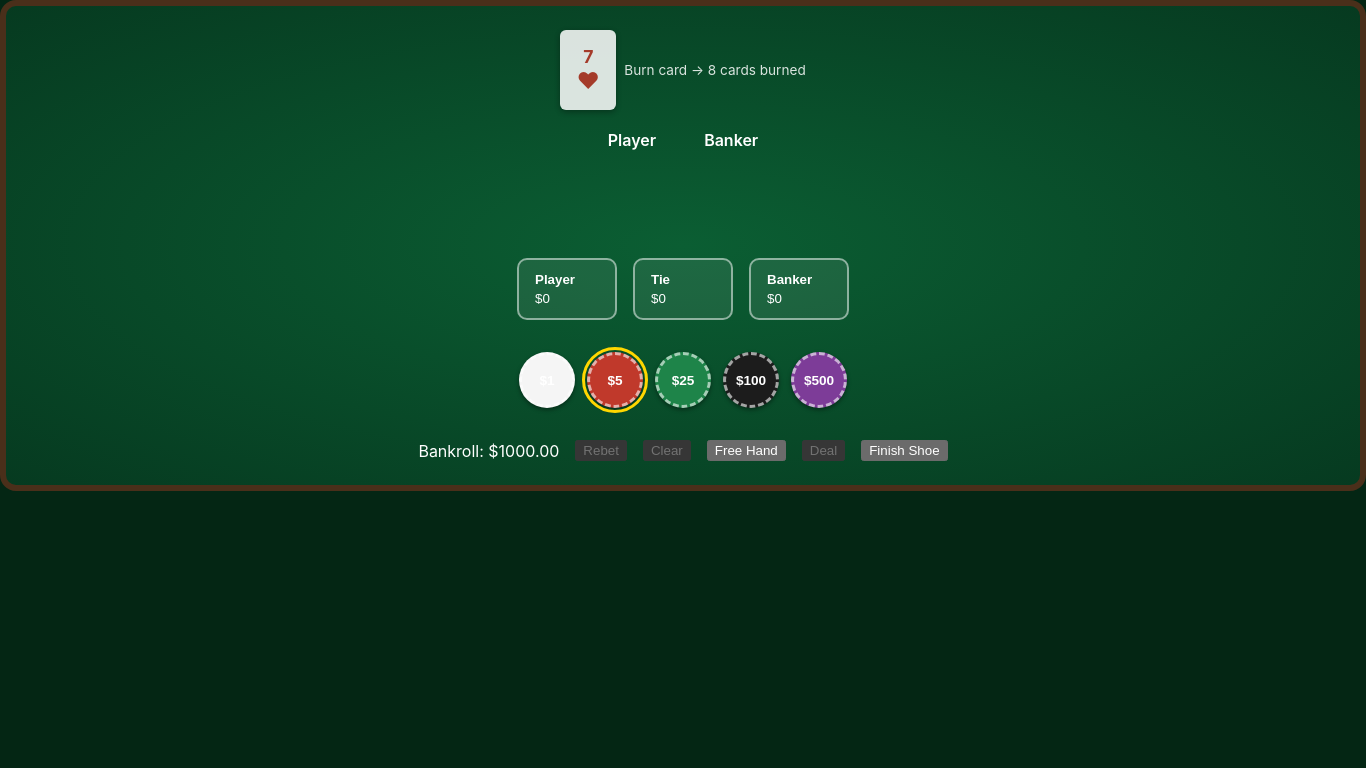
Test: Table › opens a confirmation dialog for Finish Shoe and does nothing until confirmed
The width and height of the screenshot is (1366, 768).
Check: the text "Bankroll: $1000.00" is shown, box [418,440,559,460]
What coordinates should you click on to do the following:
click the button with test id "chip-25"
I would click on:
 (683, 380)
Its box is [655,352,711,408].
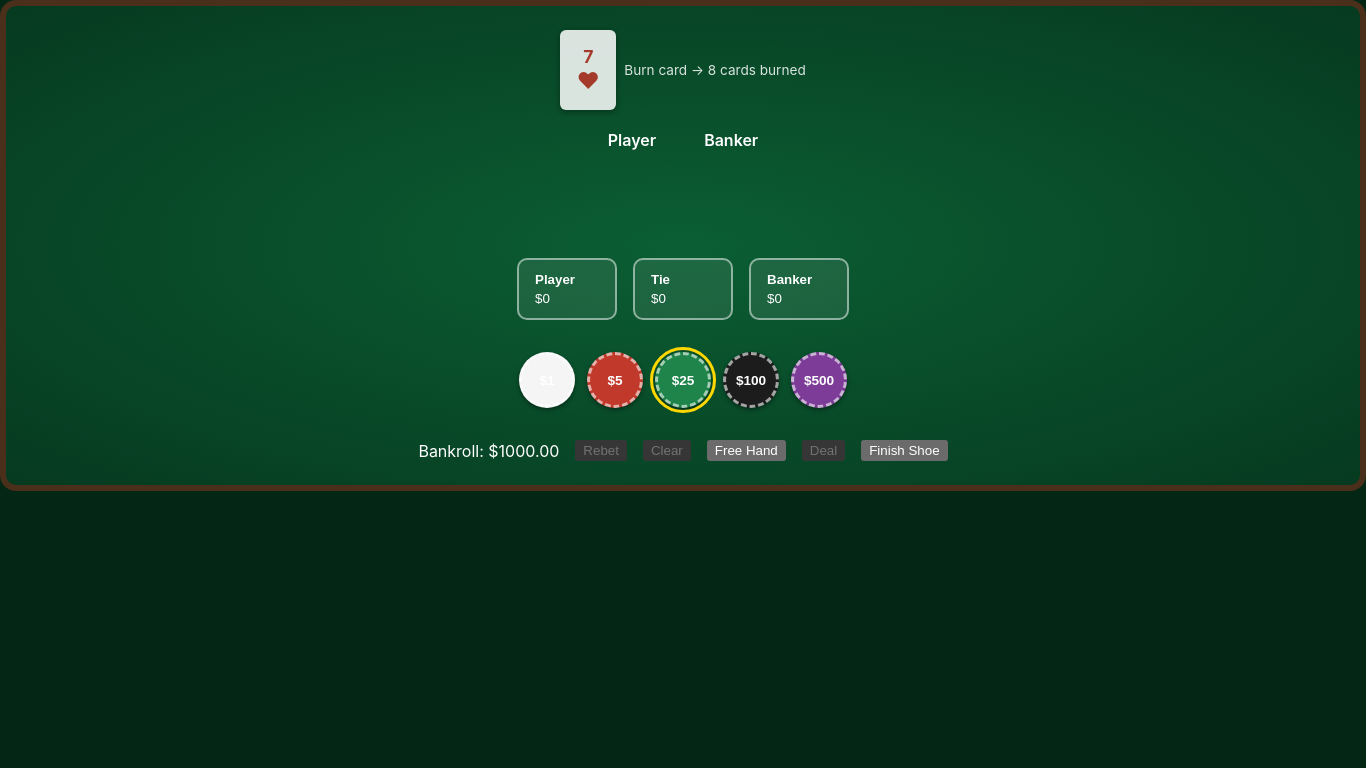
What coordinates should you click on to do the following:
click the button with test id "bet-spot-player"
I would click on:
 (567, 289)
Its box is [517,258,617,320].
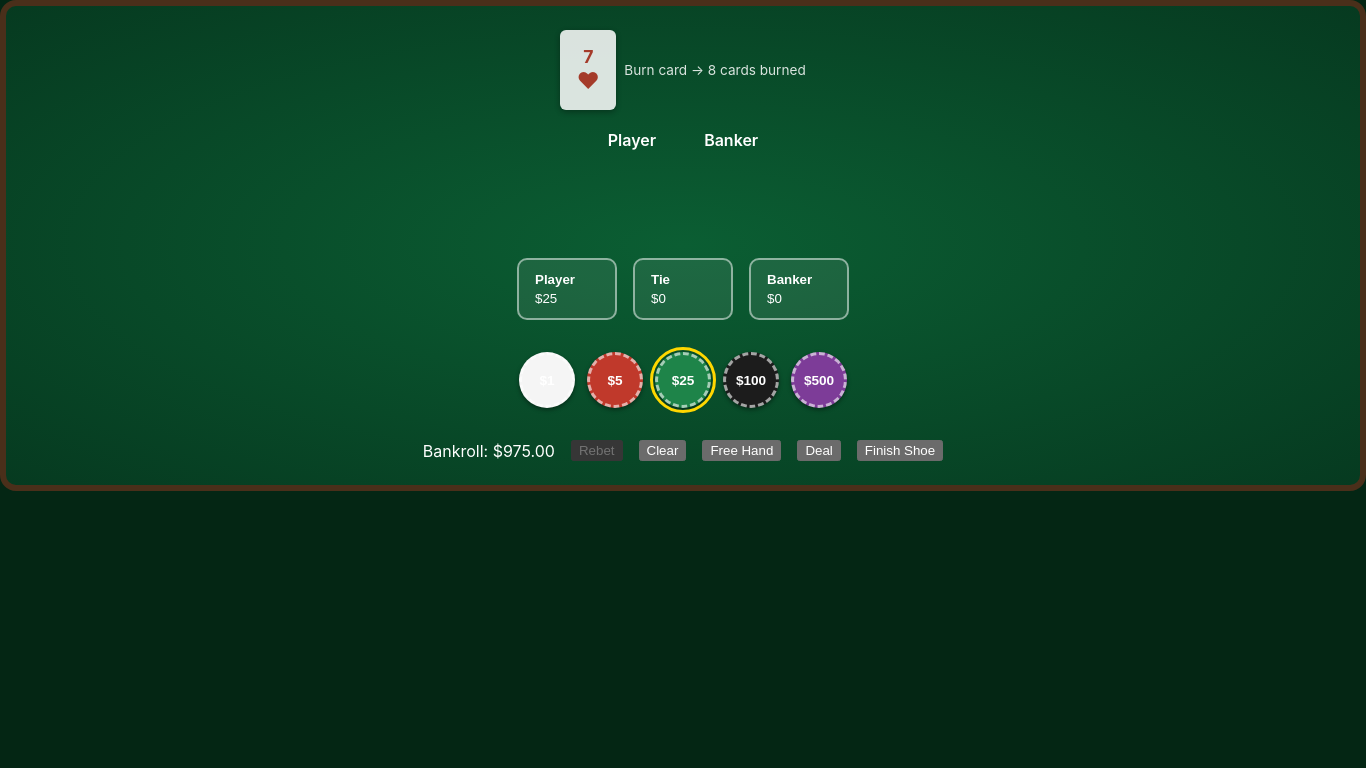
Check: the text "Bankroll: $975.00" is shown, box [423,440,555,460]
What coordinates should you click on to do the following:
click the button "Finish Shoe"
I would click on:
 (900, 450)
Its box is [857,440,943,461].
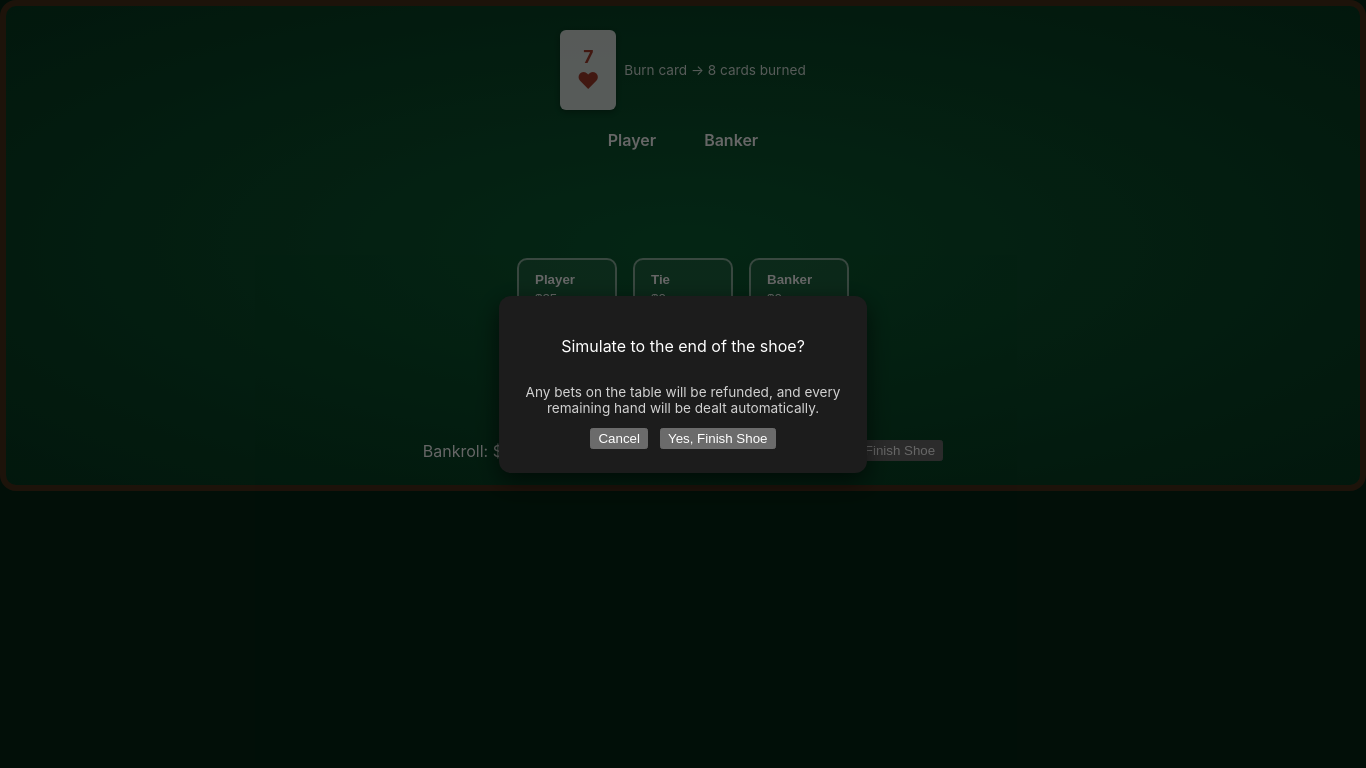
Check: the text "Bankroll: $975.00" is shown, box [423,440,555,460]
Check: the dialog named "Finish Shoe" is shown, box [499,296,867,472]
